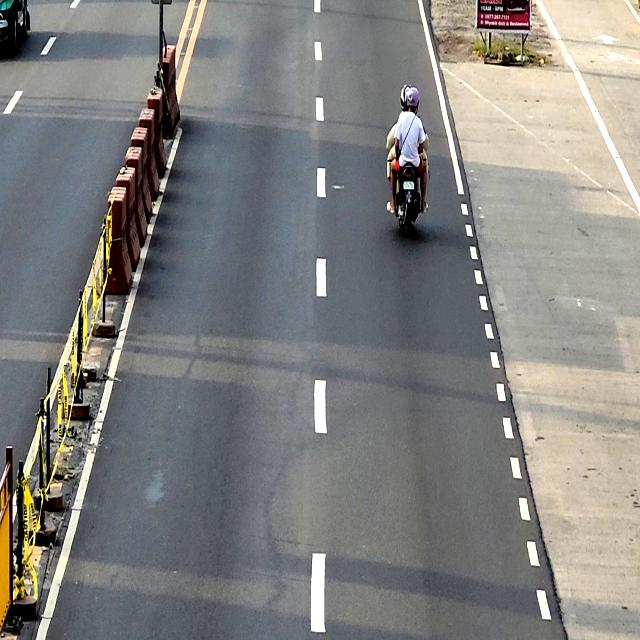License-Plate: (403, 181, 414, 190)
Motorcycle: (391, 128, 425, 239)
